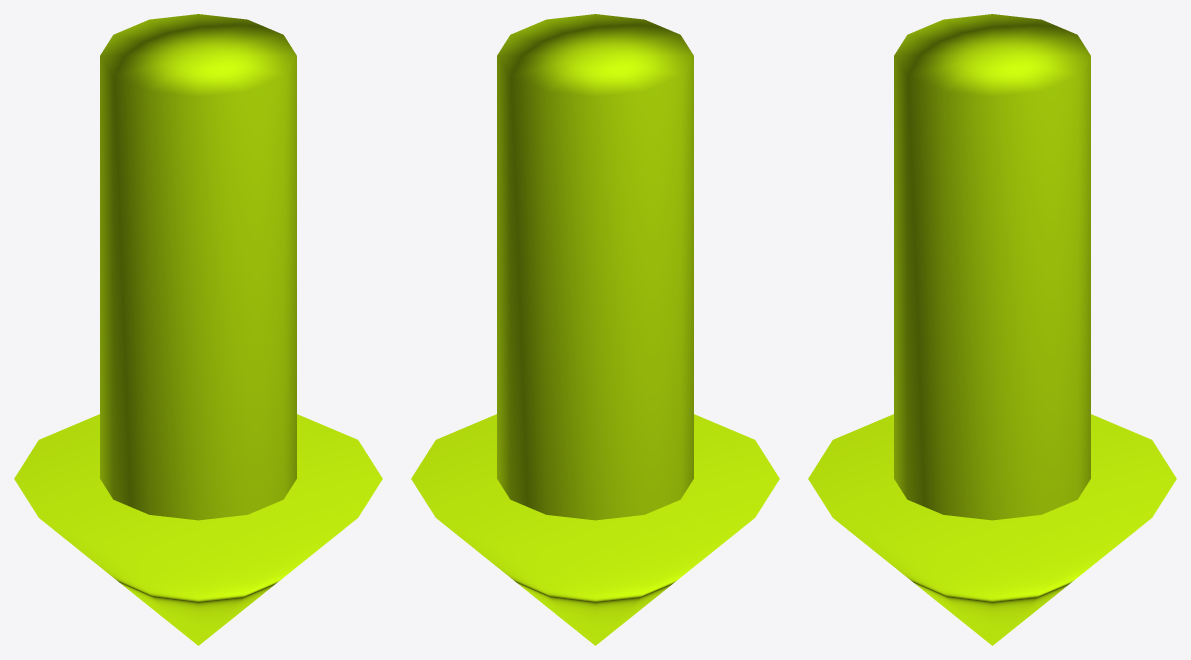
The model's file is LargeArrow.fbx.
The picture shows the model from 3 angles, left to right: view 1: azimuth 30°, elevation 25°; view 2: azimuth 150°, elevation 25°; view 3: azimuth 270°, elevation 25°; orthographic projection.
Visible parts, largest first — view 1: polySurface4; view 2: polySurface4; view 3: polySurface4.
Boxes of the visible parts, bbox=[...] form: polySurface4: bbox=[14, 14, 382, 645]; polySurface4: bbox=[411, 14, 779, 645]; polySurface4: bbox=[808, 14, 1176, 645].
Size of the model in its own units: 60 by 106 by 60.
Materials: 1 (1 with a texture image).
